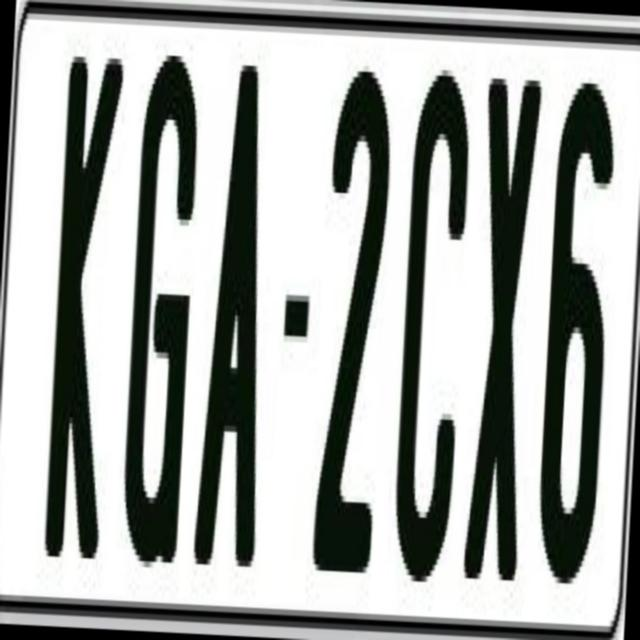2: (311, 64, 396, 567)
6: (532, 82, 620, 614)
A: (191, 58, 281, 579)
C: (388, 57, 478, 578)
G: (120, 48, 210, 570)
K: (44, 44, 128, 576)
X: (462, 61, 548, 575)
